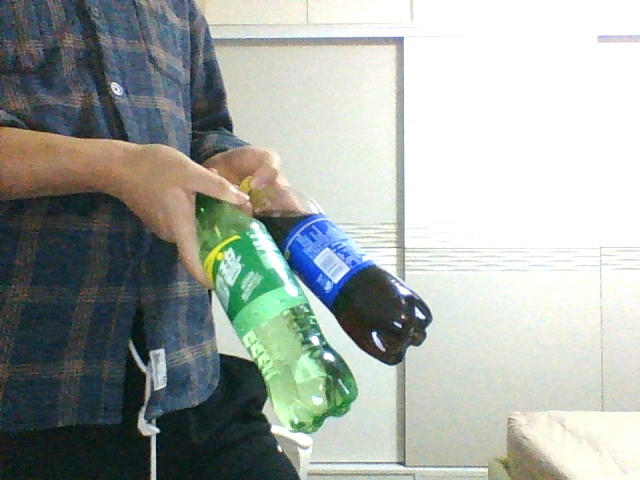Cola: (241, 179, 433, 366)
Sprite: (197, 192, 358, 435)
